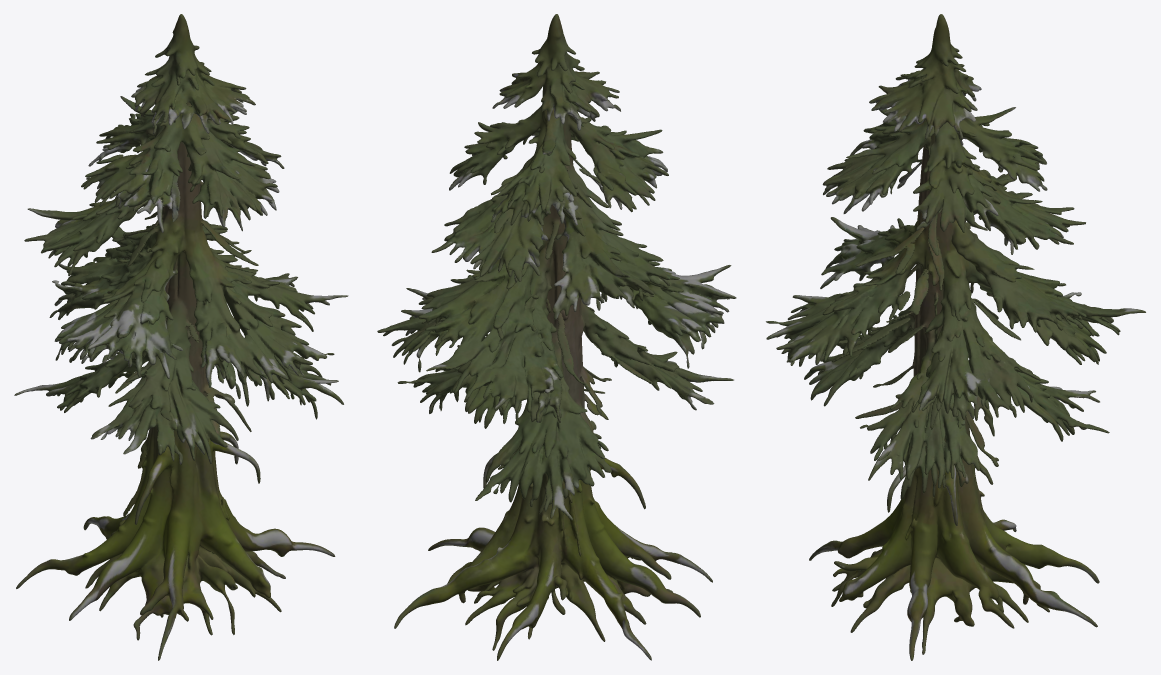
The model's file is Pino.fbx.
3 renders of one model, left to right at view 1: azimuth 30°, elevation 25°; view 2: azimuth 150°, elevation 25°; view 3: azimuth 270°, elevation 25°, orthographic. The views are drawn at different scales.
Parts seen in each view (by area): view 1: tripo_node_03e8f1c6; view 2: tripo_node_03e8f1c6; view 3: tripo_node_03e8f1c6.
Boxes of the visible parts, bbox=[...] form: tripo_node_03e8f1c6: bbox=[14, 14, 348, 660]; tripo_node_03e8f1c6: bbox=[377, 14, 736, 660]; tripo_node_03e8f1c6: bbox=[766, 14, 1145, 660].
Size of the model in its own units: 0.5375 by 1 by 0.5818.
